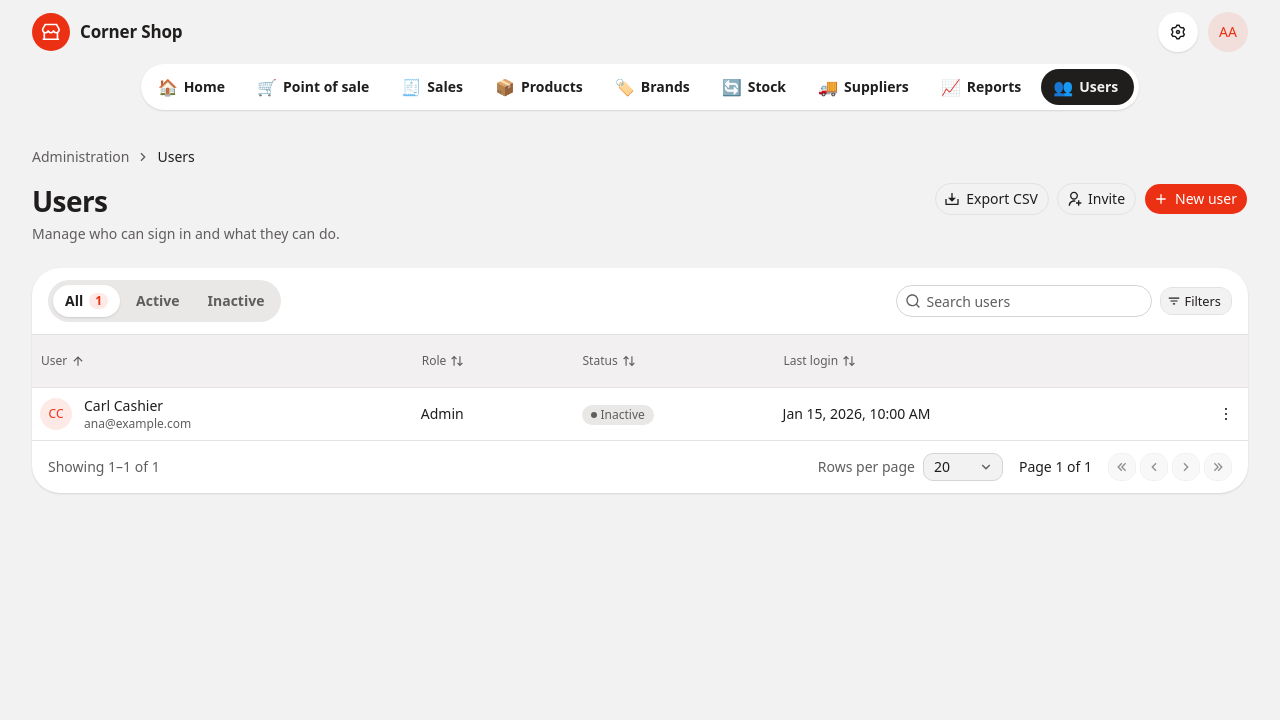
Test case: UserListPage › activates an inactive user without confirmation
This screenshot has width=1280, height=720.
Expected: the link "Carl Cashier" is shown, [84,396,163,415]
Click the button named "Actions" at x=1226, y=414, box [1212,400,1240,428]
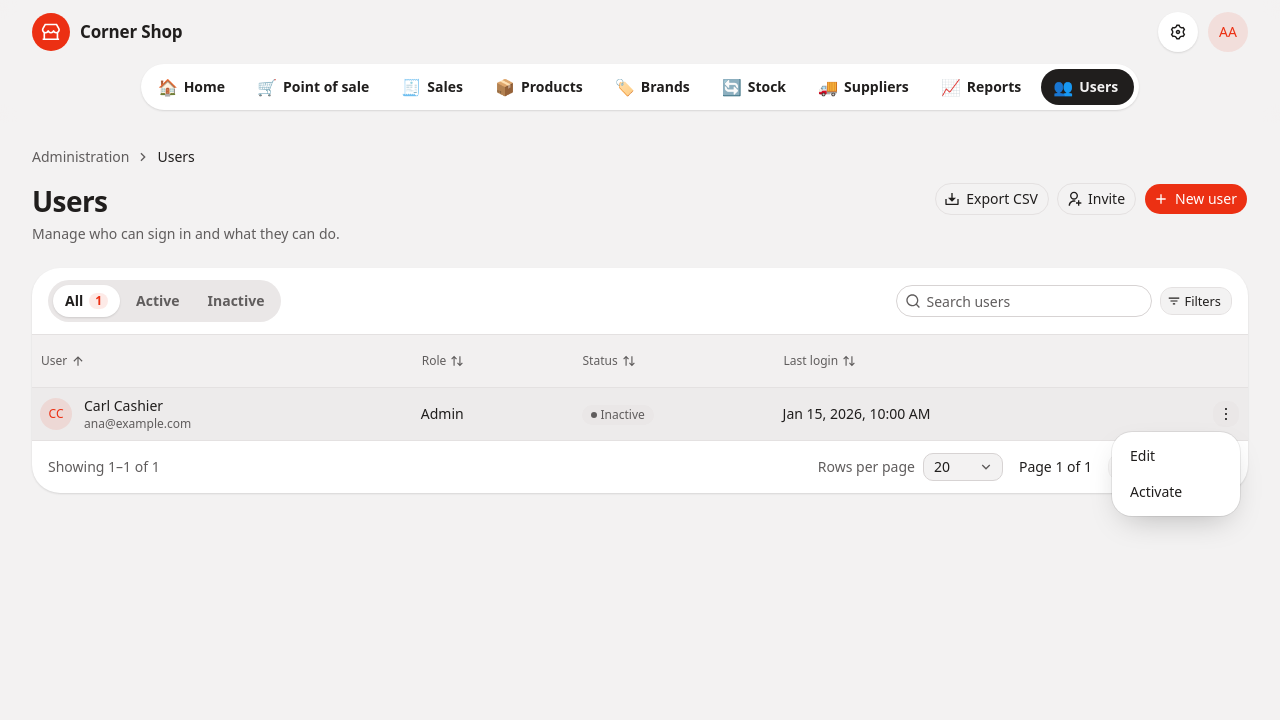
Click the menu item "Activate" at x=1156, y=492, box [1130,482,1182,501]
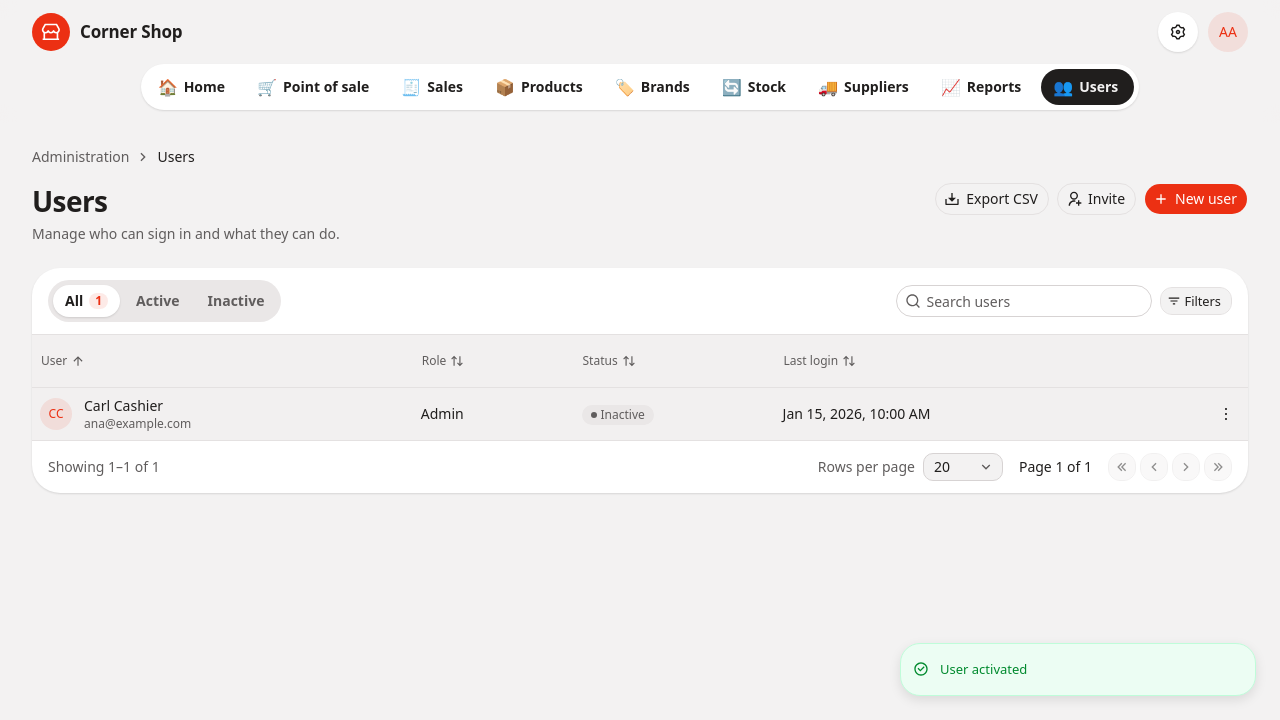
Now the text "User activated" is shown, box [940,660,1027,679]
